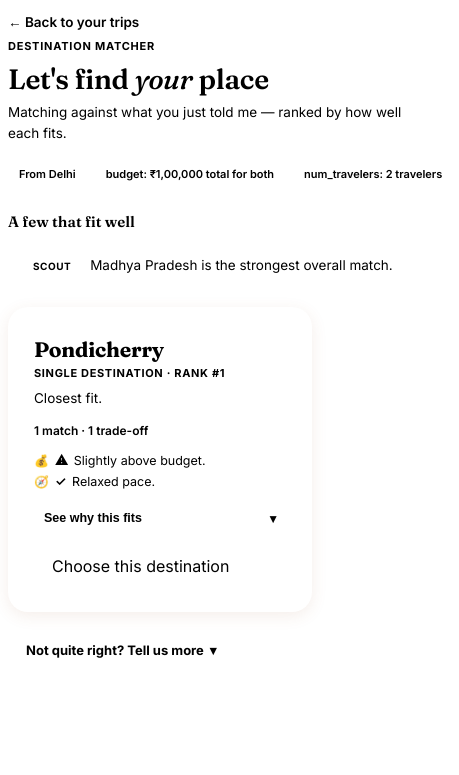
Test: Destinations (real Meridian integration) › renders SOFT_FAIL results with a visible trade-off
Expected: the button "Pondicherry" is shown, left=34, top=337, right=286, bottom=362
Expected: the text "⚠" is shown, left=55, top=452, right=68, bottom=468
Step 1. Click the button "See why this fits ▾" → (160, 518), box left=34, top=502, right=286, bottom=534
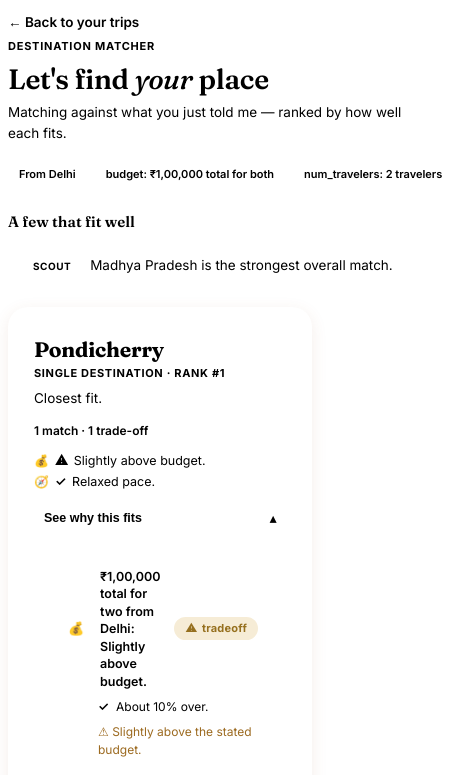
Now the text "⚠ Slightly above the stated budget." is shown, box left=98, top=723, right=258, bottom=759
